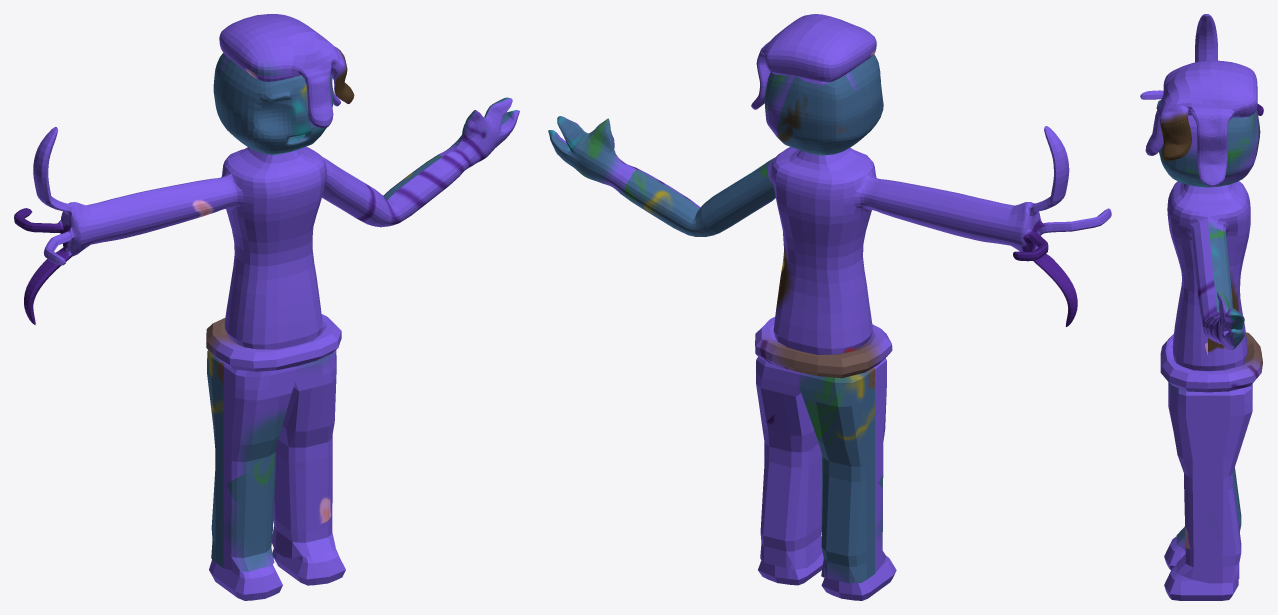
File: Mod06-Fritts7ALTSEAMS.fbx
3 renders of one model, left to right at view 1: azimuth 30°, elevation 25°; view 2: azimuth 150°, elevation 25°; view 3: azimuth 270°, elevation 25°, orthographic. The views are drawn at different scales.
Visible parts, largest first — view 1: Body; view 2: Body; view 3: Body.
Boxes of the visible parts, <box> form: Body: <box>14,14,519,600</box>; Body: <box>548,14,1111,600</box>; Body: <box>1140,14,1263,600</box>.
Size of the model in its own units: 231 by 238 by 52.15.
